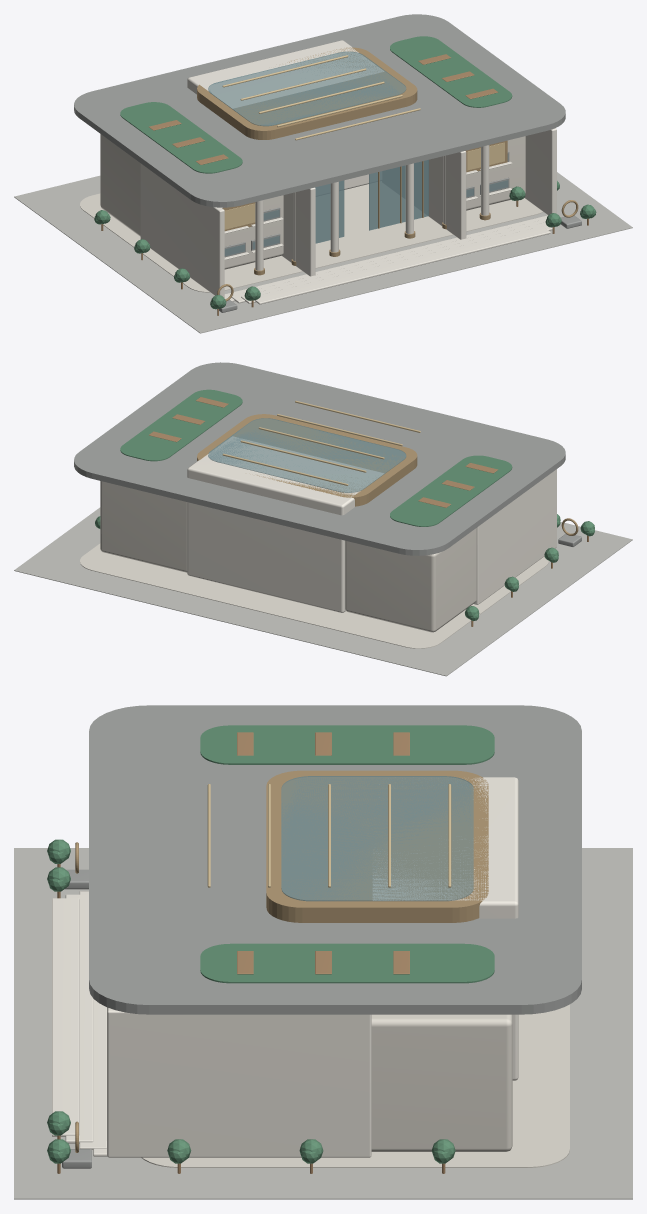
The picture shows the model from 3 angles, top to bottom: view 1: azimuth 30°, elevation 25°; view 2: azimuth 150°, elevation 25°; view 3: azimuth 270°, elevation 25°; orthographic projection. The views are drawn at different scales.
Visible parts, largest first — view 1: Floating courthouse roof, Civic stone square, Lantern glazing, Courthouse stepped base, Raised roof lantern, Layered courtroom wall blade, Rear courtroom volume, Left archive wing, Judicial roof garden.001, Judicial roof garden, Broad courthouse stair.003, Public hearing room glass.001 (+14 smaller); view 2: Floating courthouse roof, Rear courtroom volume, Civic stone square, Left archive wing, Courthouse stepped base, Lantern glazing, Layered courtroom wall blade, Right archive wing, Raised roof lantern, Judicial roof garden.001, Judicial roof garden; view 3: Floating courthouse roof, Civic stone square, Layered courtroom wall blade.003, Raised roof lantern, Lantern glazing, Right archive wing, Courthouse stepped base, Judicial roof garden.001, Judicial roof garden, Rear courtroom volume, Broad courthouse stair.003, Broad courthouse stair.002 (+1 smaller).
Part boxes in pixels (x1,y1,x2,y2): Floating courthouse roof: (74,14,565,207); Civic stone square: (14,172,632,333); Lantern glazing: (208,51,406,126); Courthouse stepped base: (80,184,543,292); Raised roof lantern: (197,47,417,139); Layered courtroom wall blade: (140,163,224,297); Rear courtroom volume: (187,40,383,189); Left archive wing: (100,134,283,269); Judicial roof garden.001: (390,36,512,107); Judicial roof garden: (120,102,242,173); Broad courthouse stair.003: (254,226,550,304); Public hearing room glass.001: (369,159,428,230); Floating courthouse roof: (74,362,565,555); Rear courtroom volume: (187,436,383,612); Civic stone square: (14,507,632,676); Left archive wing: (345,528,476,632); Courthouse stepped base: (80,543,548,648); Lantern glazing: (208,418,406,492); Layered courtroom wall blade: (474,469,556,604); Right archive wing: (100,481,187,572); Raised roof lantern: (197,414,417,506); Judicial roof garden.001: (120,389,242,461); Judicial roof garden: (390,455,512,526); Floating courthouse roof: (89,705,581,1014); Civic stone square: (14,848,632,1199); Layered courtroom wall blade.003: (107,1008,371,1157); Raised roof lantern: (266,770,488,922); Lantern glazing: (281,776,473,901); Right archive wing: (371,1014,512,1151); Courthouse stepped base: (141,1004,569,1167); Judicial roof garden.001: (200,943,494,983); Judicial roof garden: (200,725,494,764); Rear courtroom volume: (373,777,518,1080); Broad courthouse stair.003: (52,898,79,1136); Broad courthouse stair.002: (65,894,93,1143).
Size of the model in its own units: 138 by 34.87 by 103.
